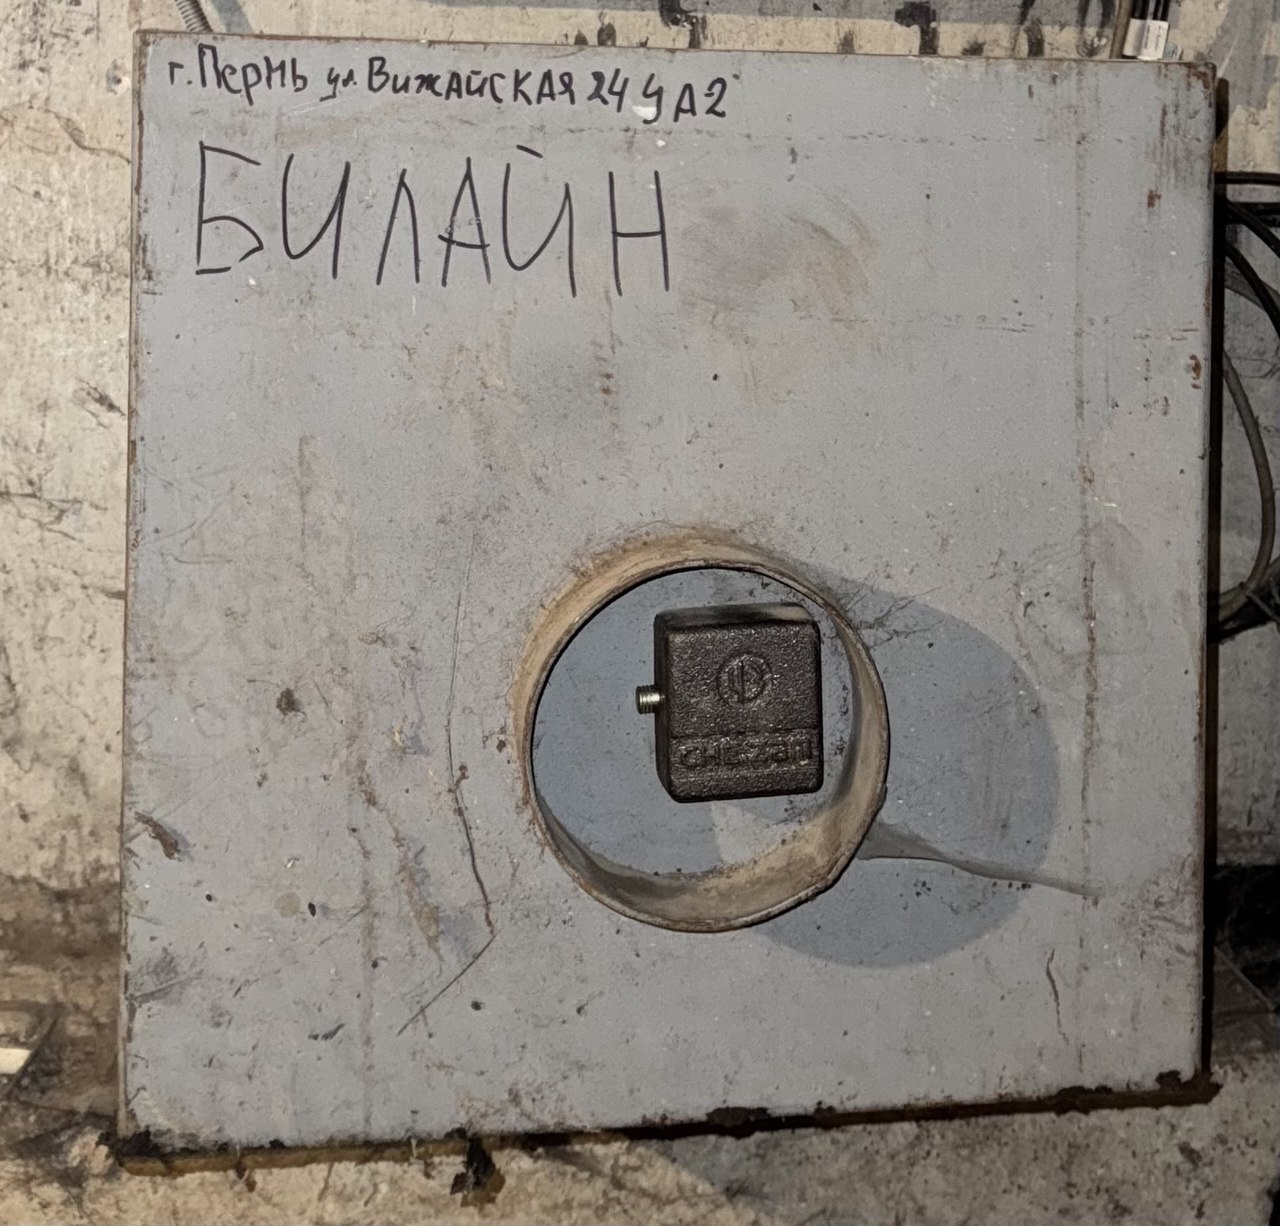shta-9: (111, 9, 1232, 1176)
